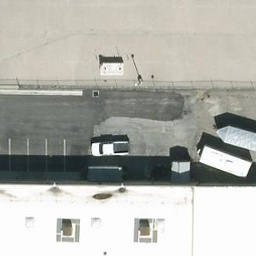car: (90, 135, 130, 159)
